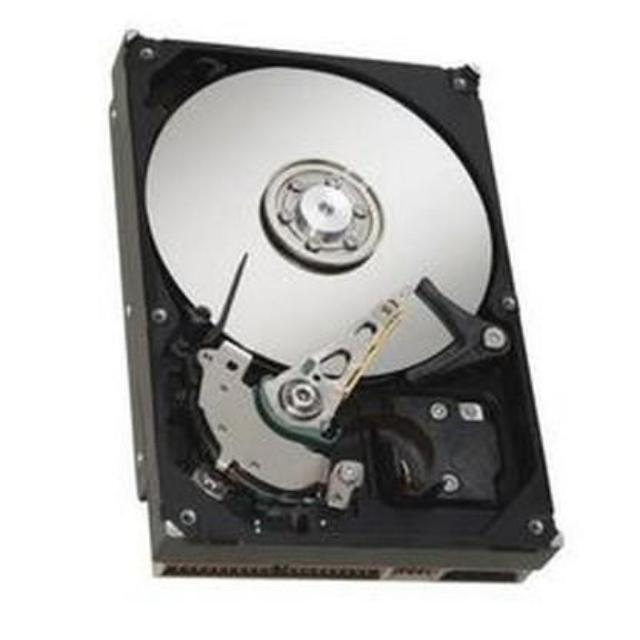DISK: (84, 27, 556, 584)
